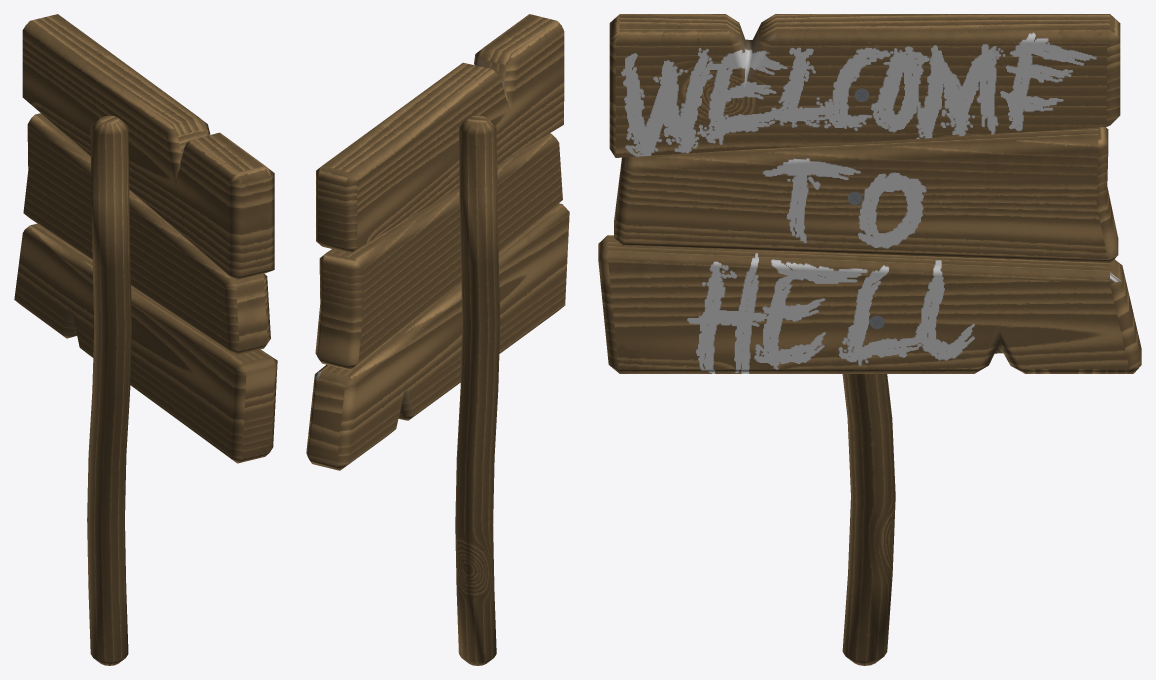
Rendered from Sign2.fbx.
The picture shows the model from 3 angles, left to right: view 1: azimuth 30°, elevation 25°; view 2: azimuth 150°, elevation 25°; view 3: azimuth 270°, elevation 25°; orthographic projection. The views are drawn at different scales.
Visible parts, largest first — view 1: Sign; view 2: Sign; view 3: Sign.
Part boxes in pixels (bbox=[...]): Sign: bbox=[14, 14, 277, 665]; Sign: bbox=[306, 14, 569, 665]; Sign: bbox=[598, 14, 1141, 665].
Size of the model in its own units: 15.25 by 107 by 79.96.
